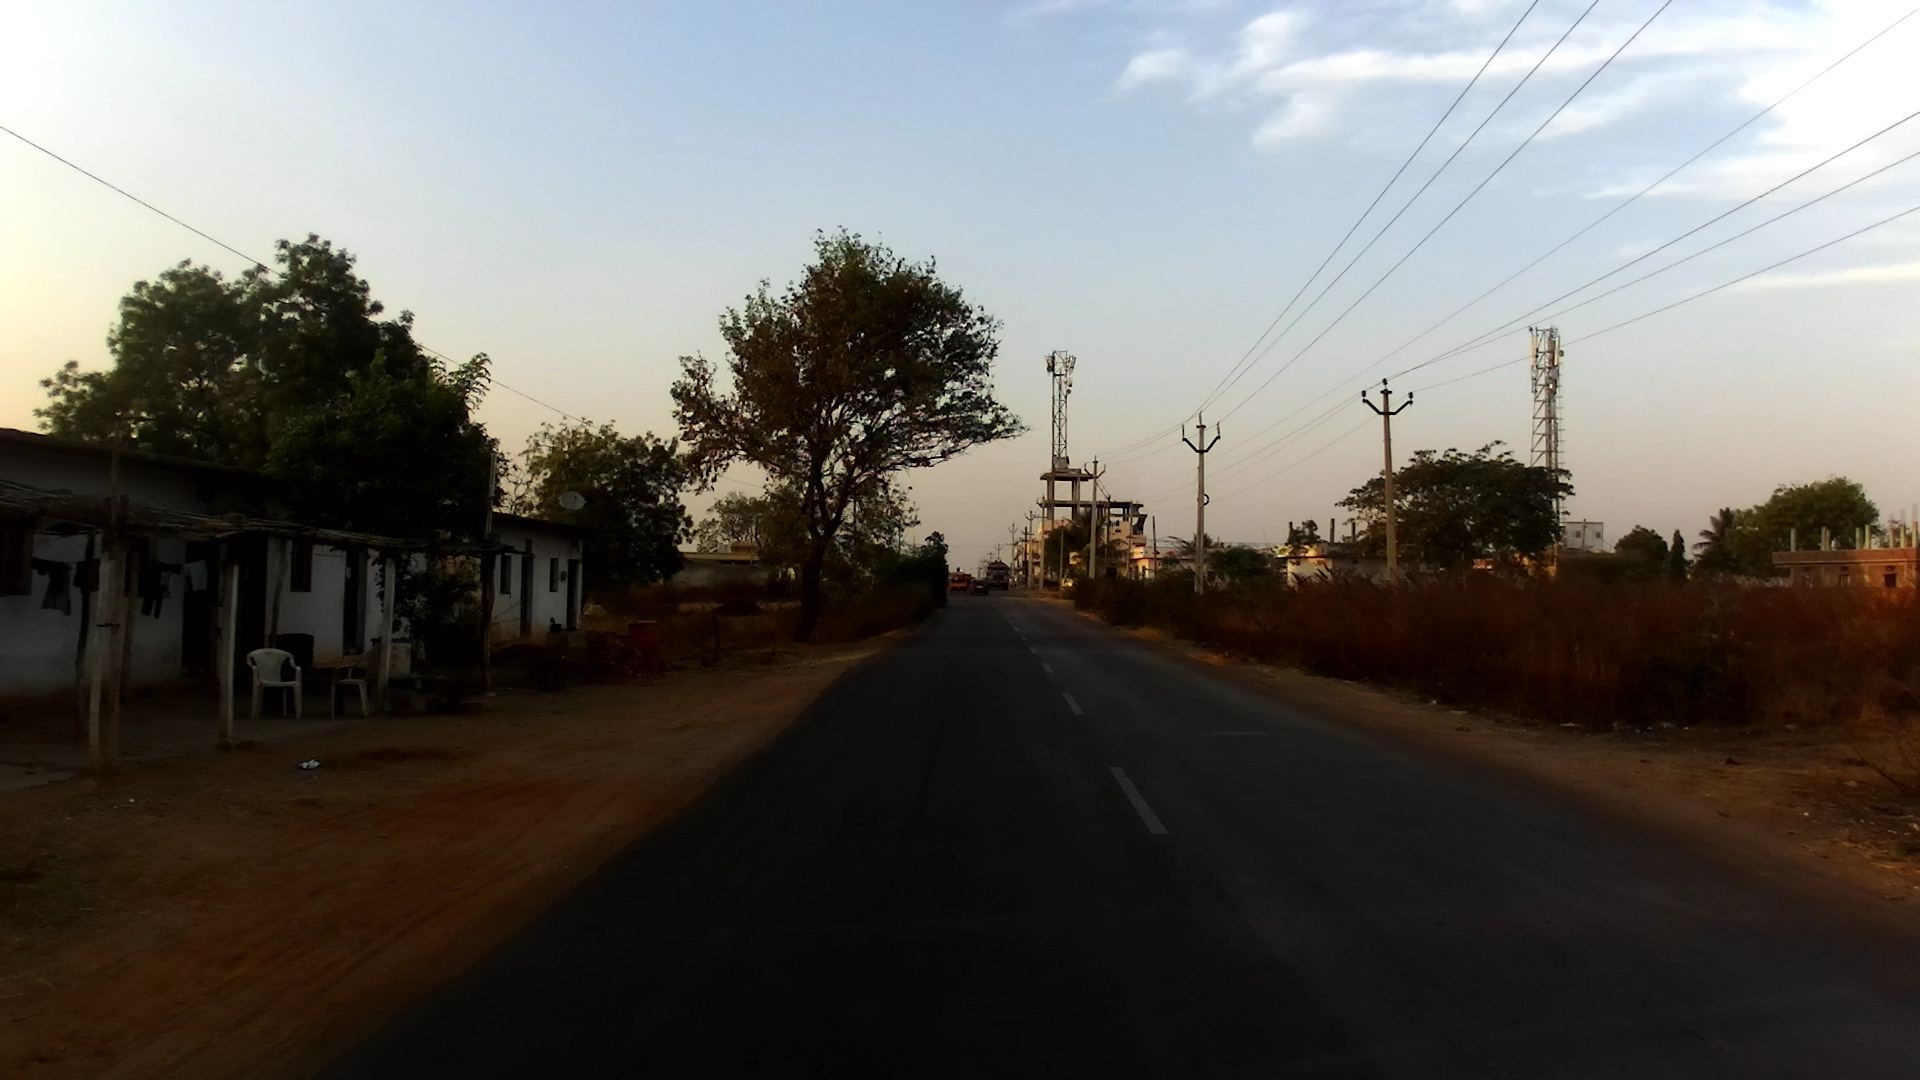autorickshaw: (949, 566, 969, 593)
car: (968, 578, 988, 594)
motorcycle: (1009, 580, 1021, 591)
rider: (1008, 576, 1018, 590)
truck: (983, 559, 1010, 593)
